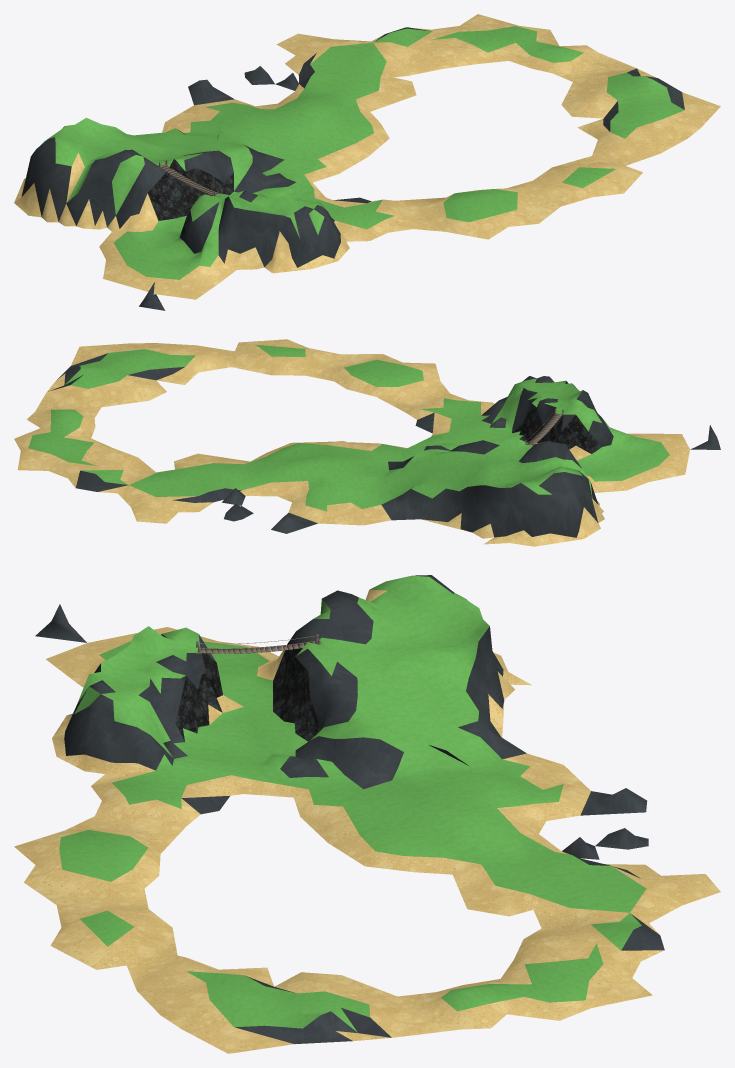
Rendered from Fixed Island Full.fbx.
The picture shows the model from 3 angles, top to bottom: view 1: azimuth 30°, elevation 25°; view 2: azimuth 150°, elevation 25°; view 3: azimuth 270°, elevation 25°; orthographic projection. The views are drawn at different scales.
Visible parts, largest first — view 1: Map Rework; view 2: Map Rework; view 3: Map Rework.
Boxes of the visible parts, x1,y1,x2,y2 form: Map Rework: (14, 14, 720, 310); Map Rework: (14, 339, 720, 546); Map Rework: (14, 575, 720, 1053).
Bounding box in the file's own units: 3404 × 333 × 2376.
5 materials, 5 textured.
